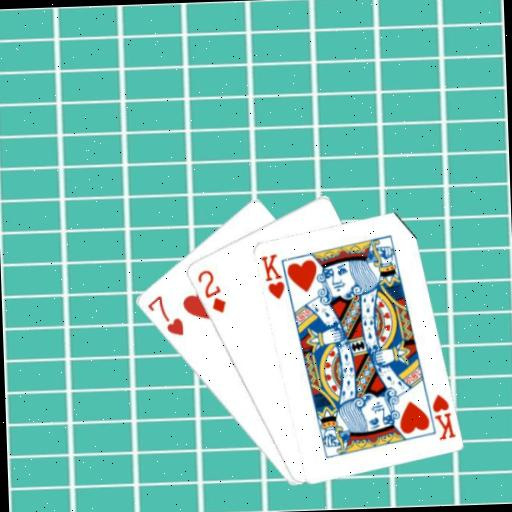2D: (193, 265, 227, 315)
7H: (143, 291, 185, 338)
KH: (427, 389, 456, 441), (257, 250, 286, 301)
